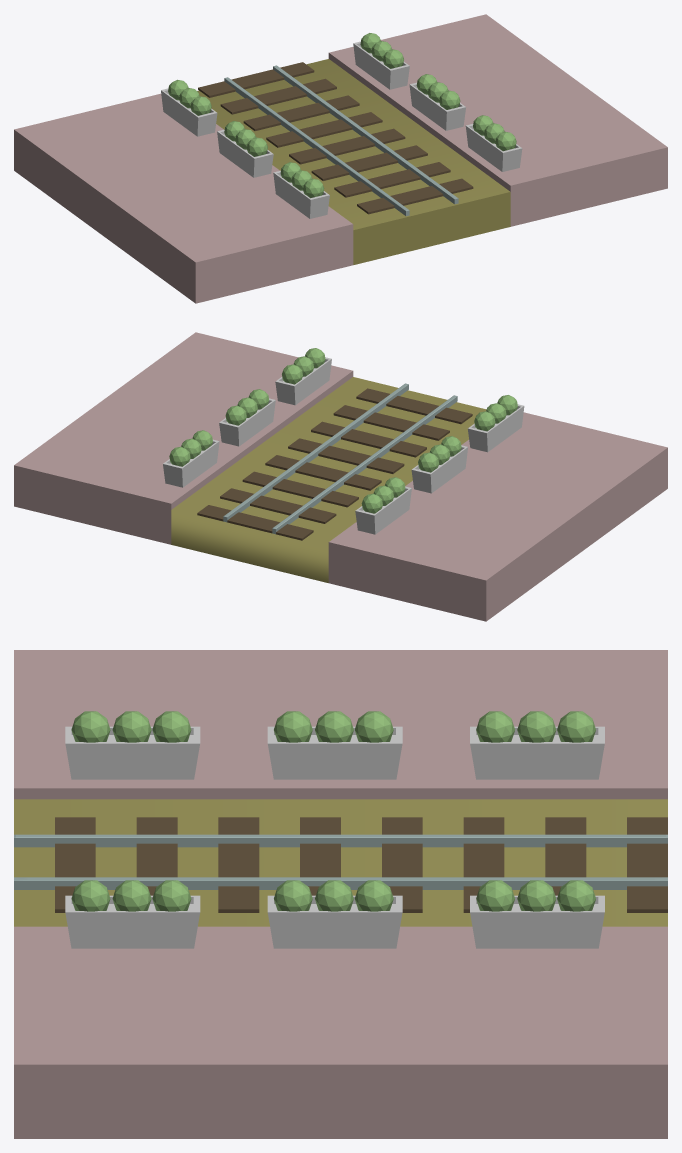
The model's file is railroad_no_passage.fbx.
The picture shows the model from 3 angles, top to bottom: view 1: azimuth 30°, elevation 25°; view 2: azimuth 150°, elevation 25°; view 3: azimuth 270°, elevation 25°; orthographic projection. The views are drawn at different scales.
Parts seen in each view (by area): view 1: Cube.022; view 2: Cube.022; view 3: Cube.022.
Boxes of the visible parts, x1,y1,x2,y2 form: Cube.022: (14,14,667,303); Cube.022: (14,332,667,621); Cube.022: (14,650,667,1138).
Size of the model in its own units: 2400 by 363 by 1600.
